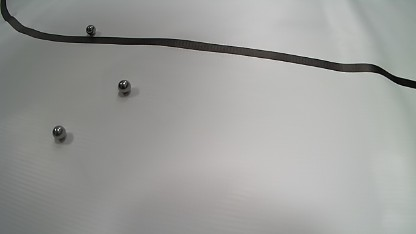ironball: (52, 125, 66, 140), (117, 80, 131, 93), (86, 24, 96, 36)
